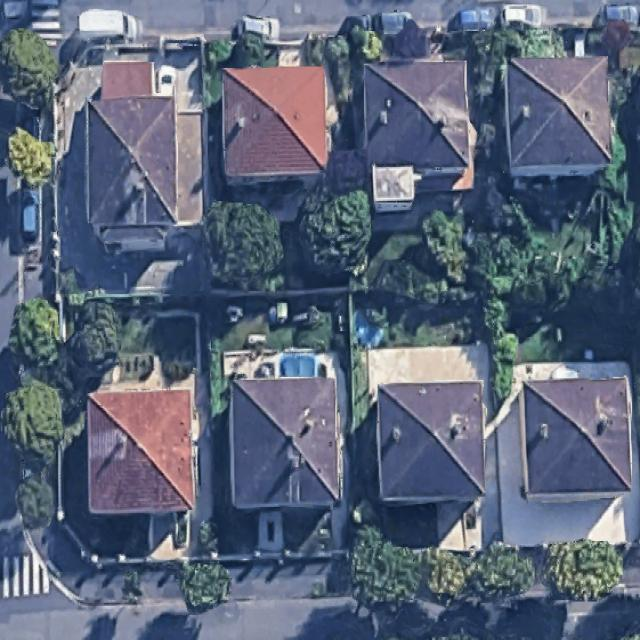maison: (84, 59, 203, 251), (361, 59, 472, 210), (230, 377, 340, 508), (518, 375, 631, 501), (84, 389, 194, 516), (377, 381, 484, 504), (219, 66, 328, 183), (504, 58, 610, 174)
